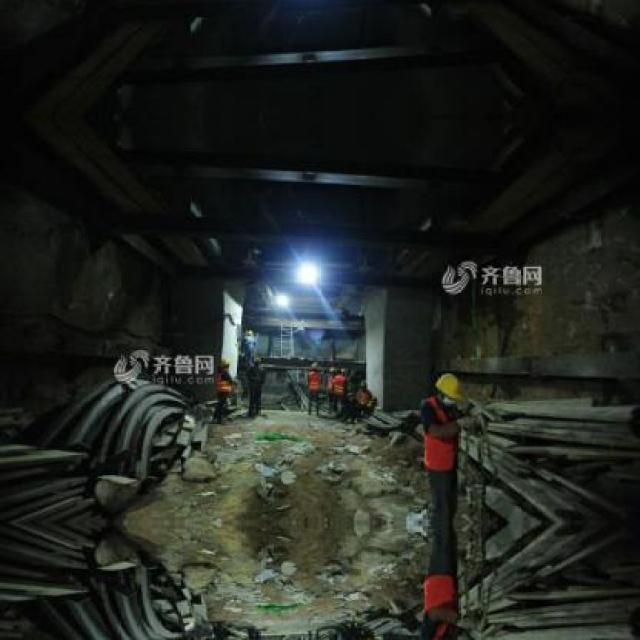helmet: (432, 369, 460, 406)
